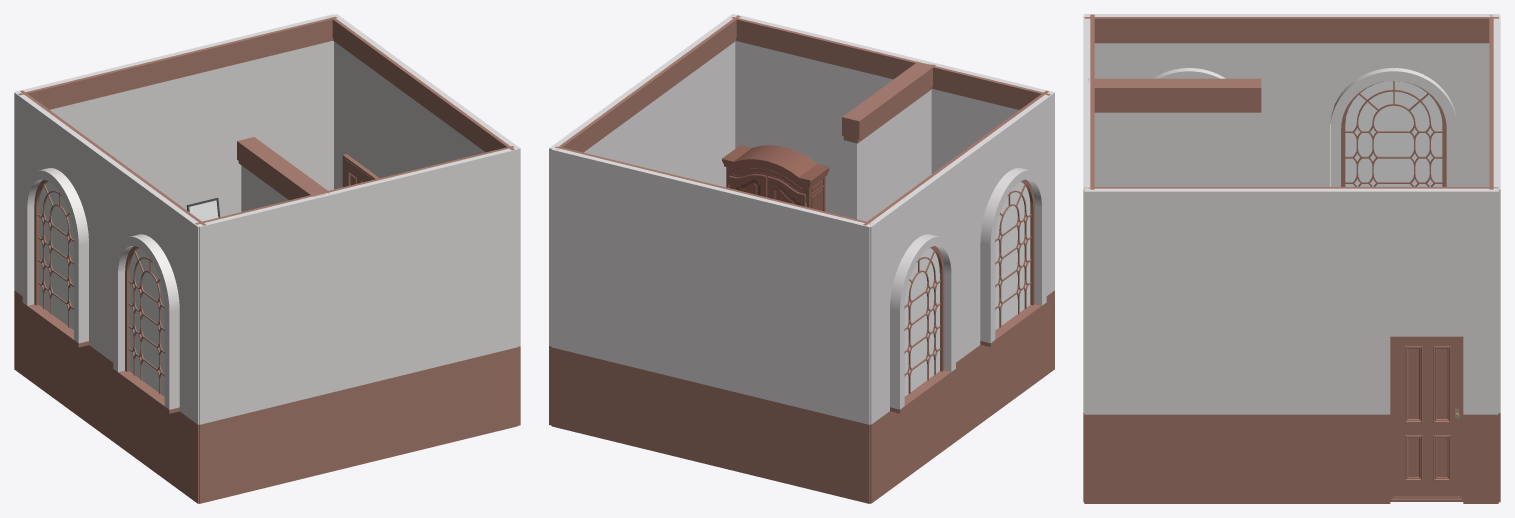
File: 944_room.glb
3 renders of one model, left to right at view 1: azimuth 30°, elevation 25°; view 2: azimuth 150°, elevation 25°; view 3: azimuth 270°, elevation 25°, orthographic. The views are drawn at different scales.
Visible parts, largest first — view 1: kabe4, kabe1, kabe2, kabe3, kabe5, mirror; view 2: kabe2, kabe1, kabe4, kabe3, kabe5, closet, right, left; view 3: kabe3, kabe1, kabe5, door, kabe2, kabe4.
Part boxes in pixels (x1,y1,x2,y2): kabe4: (195, 146, 517, 503); kabe1: (14, 90, 205, 503); kabe2: (15, 14, 337, 216); kabe3: (329, 14, 520, 425); kabe5: (237, 137, 330, 211); mirror: (186, 197, 220, 221); kabe2: (551, 146, 870, 503); kabe1: (863, 90, 1054, 503); kabe4: (731, 14, 1054, 216); kabe3: (549, 14, 740, 425); kabe5: (842, 63, 935, 221); closet: (722, 145, 829, 211); right: (767, 176, 805, 206); left: (729, 174, 767, 197); kabe3: (1084, 187, 1498, 503); kabe1: (1084, 14, 1498, 186); kabe5: (1088, 78, 1261, 186); door: (1393, 336, 1460, 496); kabe2: (1489, 14, 1500, 502); kabe4: (1083, 14, 1094, 502).
Size of the model in its own units: 4.31 by 3.43 by 4.15.
